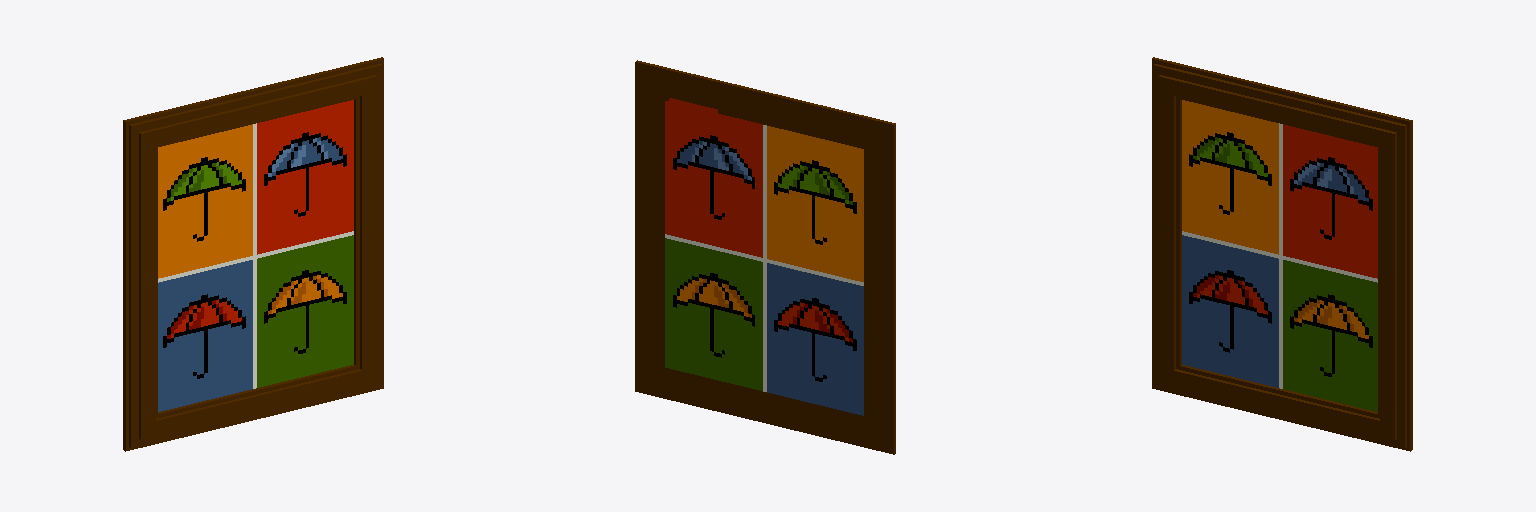
3 views of the same model, side by side, from view 1: azimuth 30°, elevation 25°; view 2: azimuth 150°, elevation 25°; view 3: azimuth 330°, elevation 25° (orthographic).
Size of the model in its own units: 69 by 84 by 3.
Materials: 1 (1 with a texture image).